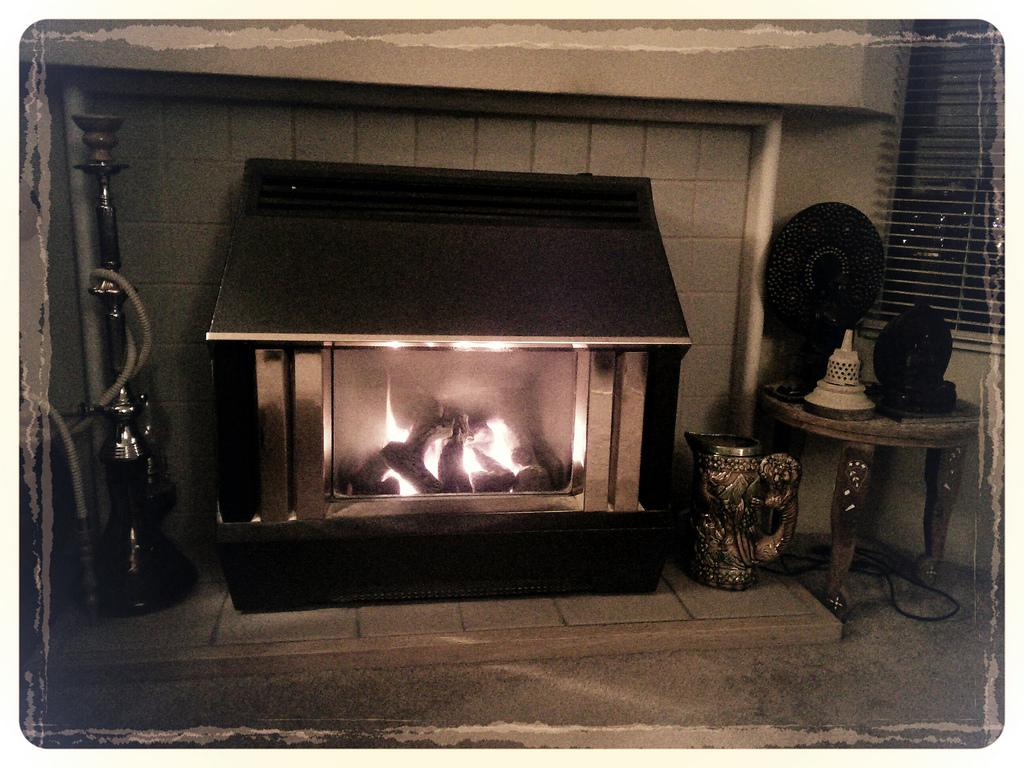fire: (490, 428, 528, 460), (378, 410, 404, 436)
